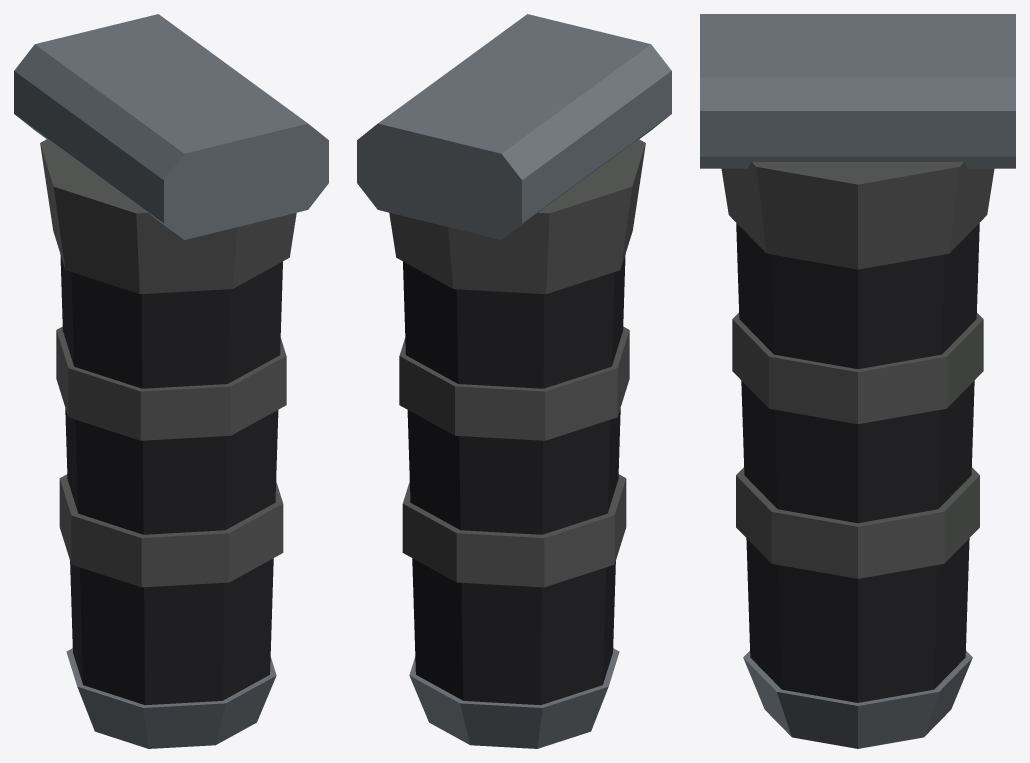
The model's file is foregrip.glb.
3 views of the same model, side by side, from view 1: azimuth 30°, elevation 25°; view 2: azimuth 150°, elevation 25°; view 3: azimuth 270°, elevation 25° (orthographic). The views are drawn at different scales.
Parts seen in each view (by area): view 1: foregrip; view 2: foregrip; view 3: foregrip.
Boxes of the visible parts, box(x1,y1,x2,y2) form: foregrip: box(14, 14, 328, 748); foregrip: box(357, 14, 671, 748); foregrip: box(700, 14, 1015, 748).
Bounding box in the file's own units: 0.04 × 0.102 × 0.044.
1 material, 1 textured.
